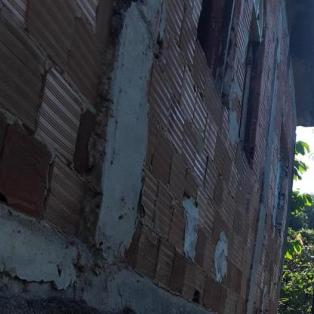Poste: (281, 36, 314, 314)
